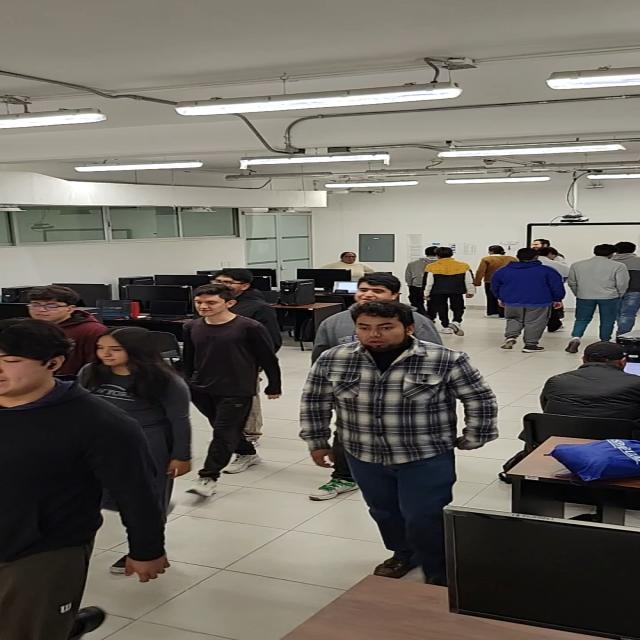Persona: (293, 301, 496, 582), (1, 316, 173, 640), (308, 270, 441, 504), (69, 326, 193, 576), (172, 287, 286, 496), (204, 269, 282, 448), (24, 282, 111, 388), (490, 248, 567, 352), (562, 244, 632, 354), (527, 237, 572, 337), (424, 246, 470, 336), (473, 245, 518, 322), (609, 241, 640, 343), (401, 245, 442, 316)
